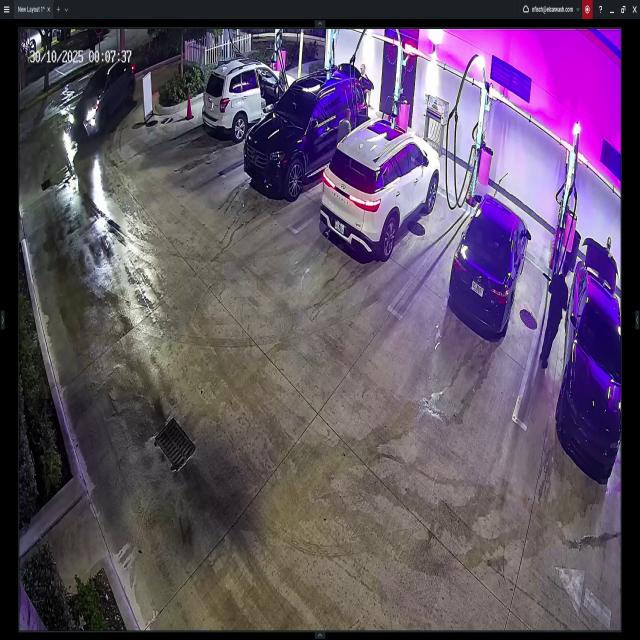Car: (244, 66, 374, 192), (323, 119, 439, 253), (562, 238, 622, 472), (450, 197, 530, 342), (202, 57, 295, 139), (69, 61, 135, 140)
